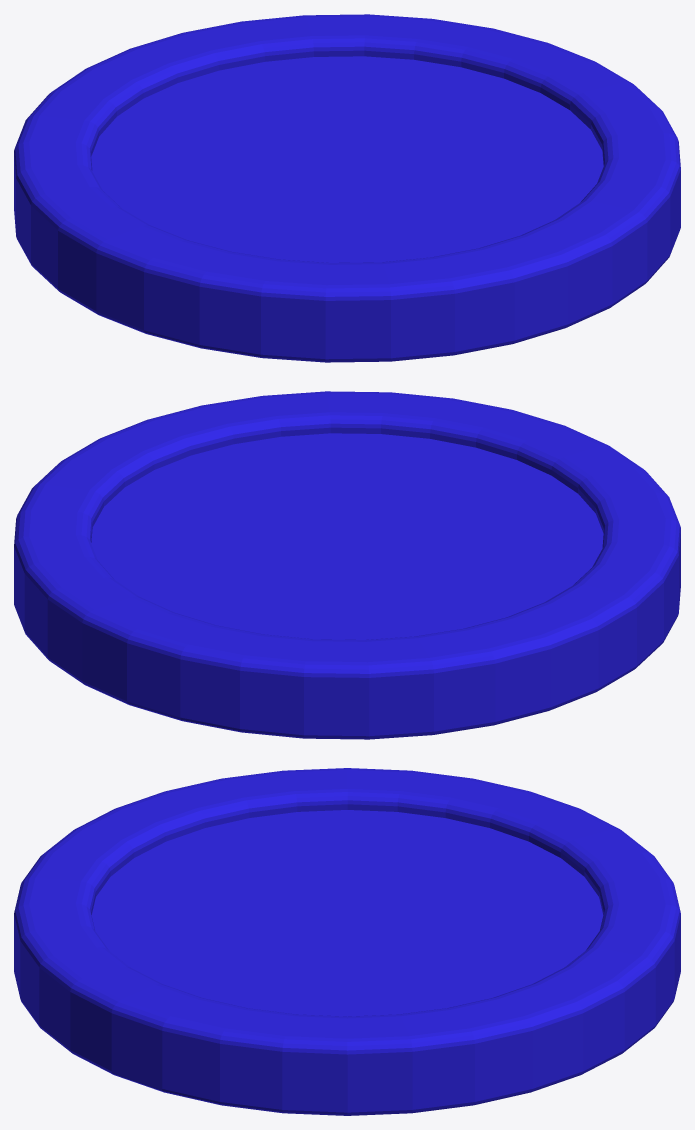
Rendered from Puck.glb.
The picture shows the model from 3 angles, top to bottom: view 1: azimuth 30°, elevation 25°; view 2: azimuth 150°, elevation 25°; view 3: azimuth 270°, elevation 25°; orthographic projection.
Visible parts, largest first — view 1: Puck; view 2: Puck; view 3: Puck.
Boxes of the visible parts, bbox=[...] form: Puck: bbox=[14, 14, 680, 362]; Puck: bbox=[14, 391, 680, 739]; Puck: bbox=[14, 768, 680, 1115].
Bounding box in the file's own units: 0.75 × 0.0927 × 0.75.
